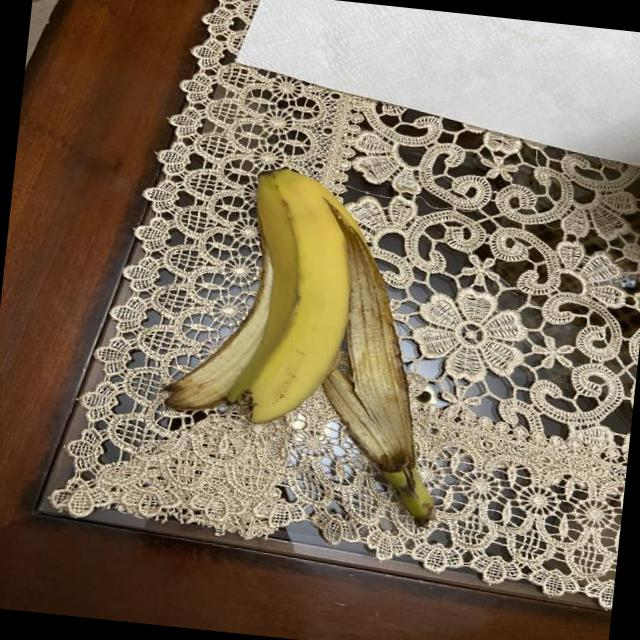banana-peel: (150, 155, 468, 523), (288, 184, 466, 520), (224, 162, 364, 431)
